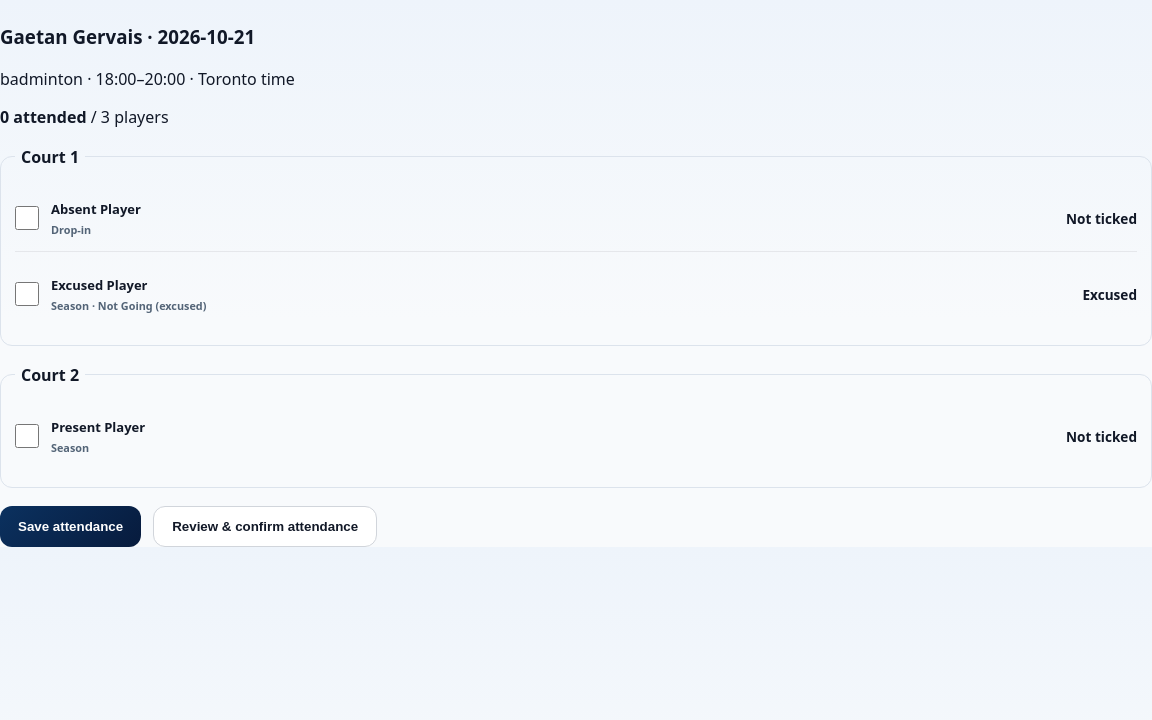
Test: Convenor attendance › preserves ticks and never reports success on a failed save
expect the text "Present Player" is shown: met, box [51,418,145,436]
Click the checkbox labelled "Present Player Season Not ticked" at coordinates (27, 436), box [15,424,39,448]
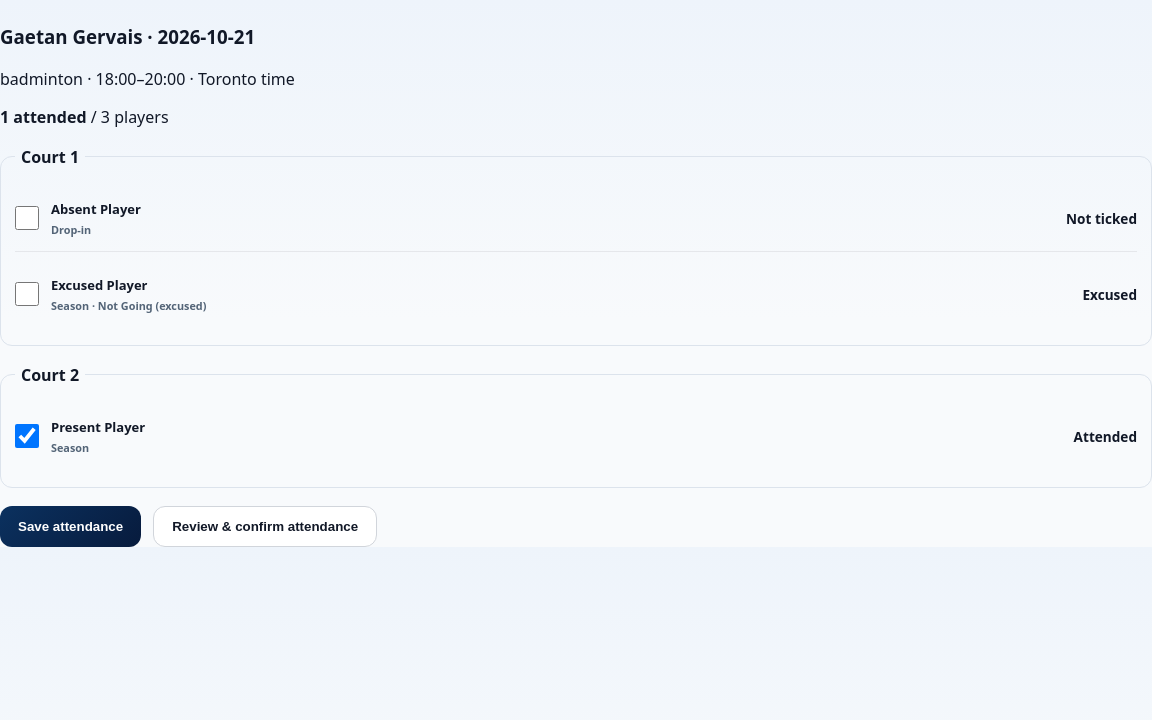
Click the button "Save attendance" at coordinates (71, 526), box [0,506,141,547]
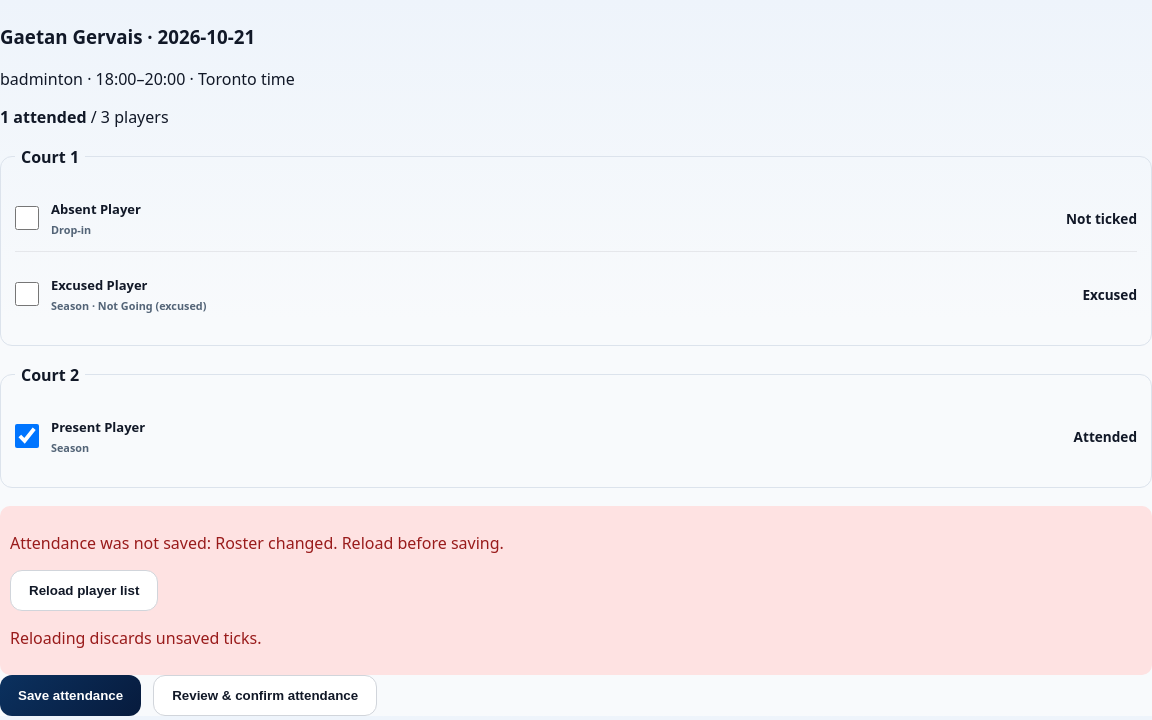
expect the checkbox labelled "Present Player Season Attended" is checked: met, box [15,424,39,448]
expect the message is shown: met, box [0,506,1151,675]
